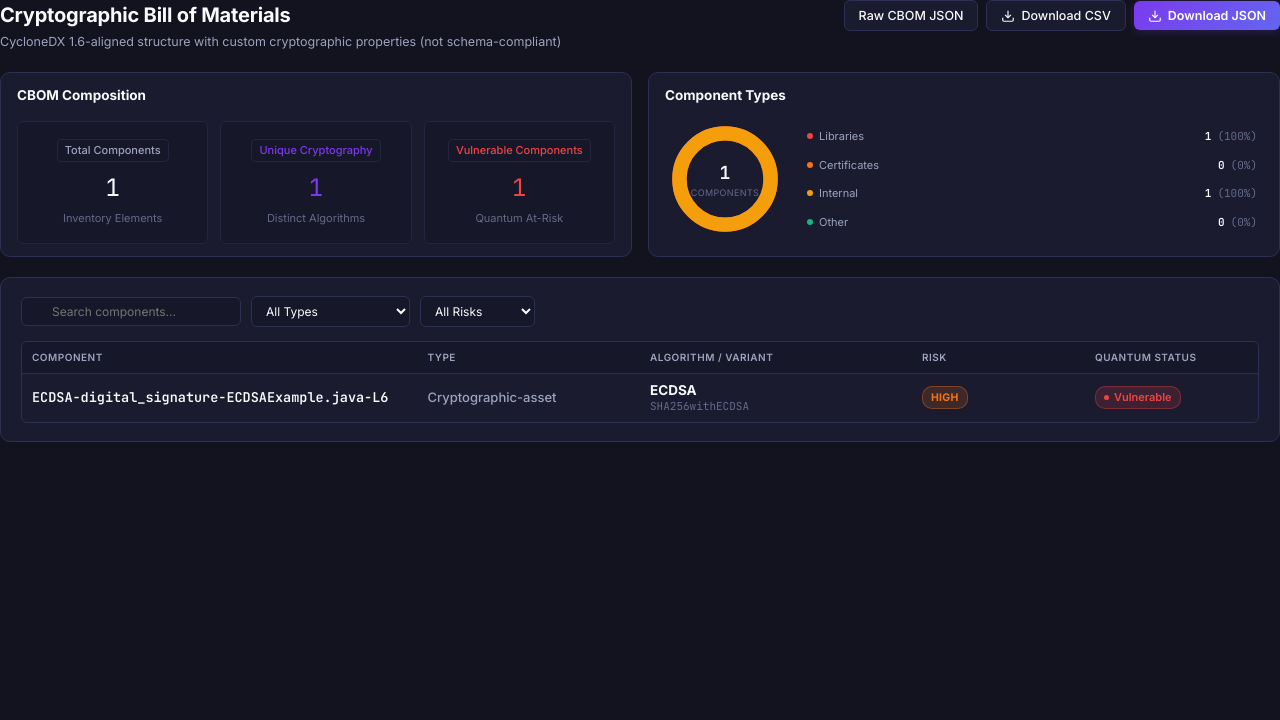
Test: ECDAT Enterprise Frontend Redesign Tests › 10. Phase 12: Renders CBOMViewer with CycloneDX 1.6-inspired format & JSON/CSV export
Check: the heading "Cryptographic Bill of Materials" is shown, box [0,3,291,27]
Check: the button "Download CSV" is shown, box [986,0,1126,31]
Click the button "Raw CBOM JSON".
click(911, 16)  # box [844,0,978,31]
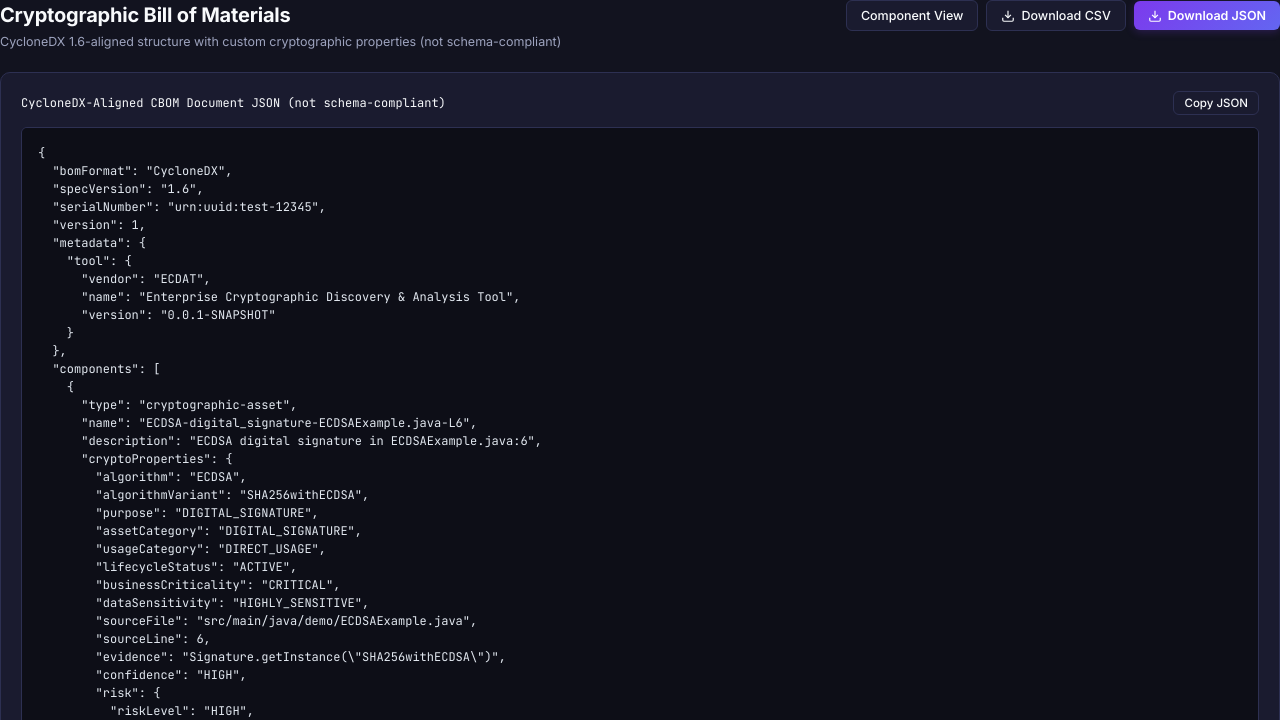
Check: the text "CycloneDX-Aligned CBOM Document JSON (not schema-compliant)" is shown, box [21,94,446,112]
